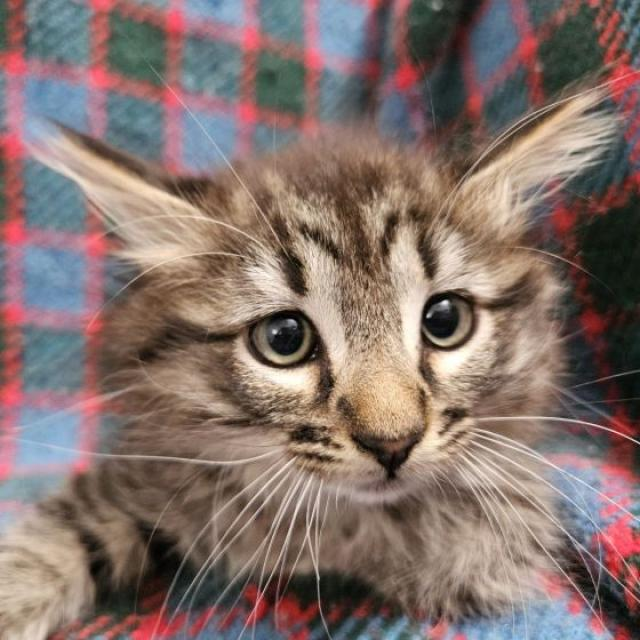domestic_long_hair_cat: (25, 80, 621, 574)
